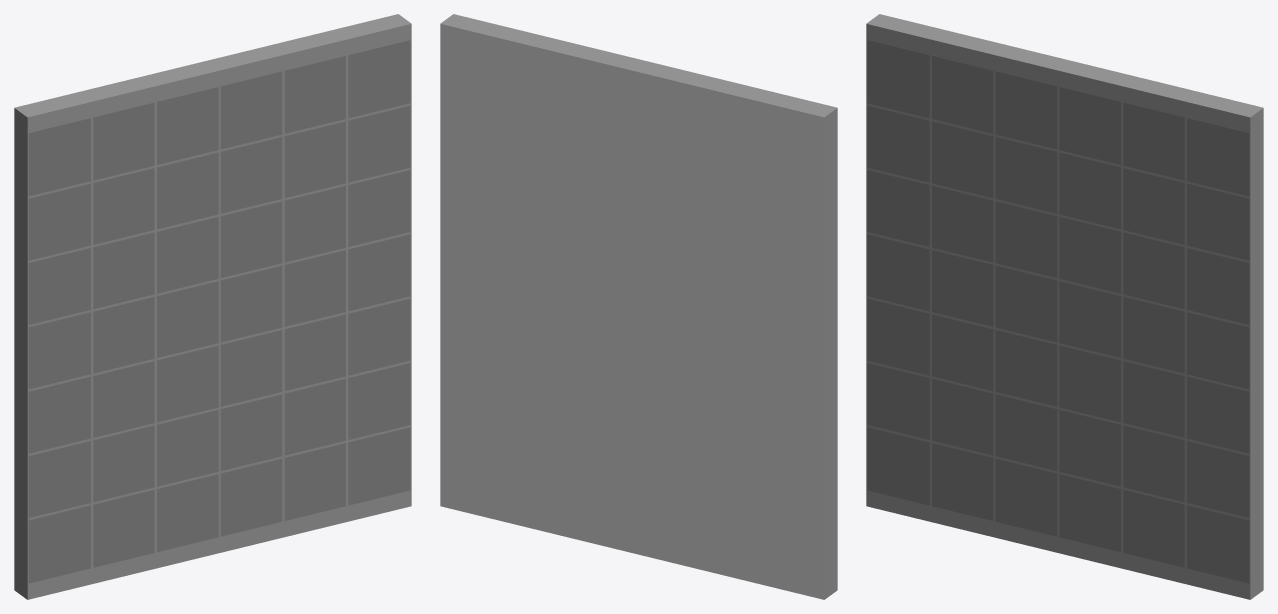
File: Wall1_C7_01.fbx
3 views of the same model, side by side, from view 1: azimuth 30°, elevation 25°; view 2: azimuth 150°, elevation 25°; view 3: azimuth 330°, elevation 25° (orthographic).
Visible parts, largest first — view 1: Wall1_C7_01; view 2: Wall1_C7_01; view 3: Wall1_C7_01.
Part boxes in pixels (x1=…): Wall1_C7_01: x1=14, y1=14, x2=411, y2=599; Wall1_C7_01: x1=440, y1=14, x2=837, y2=599; Wall1_C7_01: x1=866, y1=14, x2=1263, y2=599.
Size of the model in its own units: 250 by 300 by 15.
